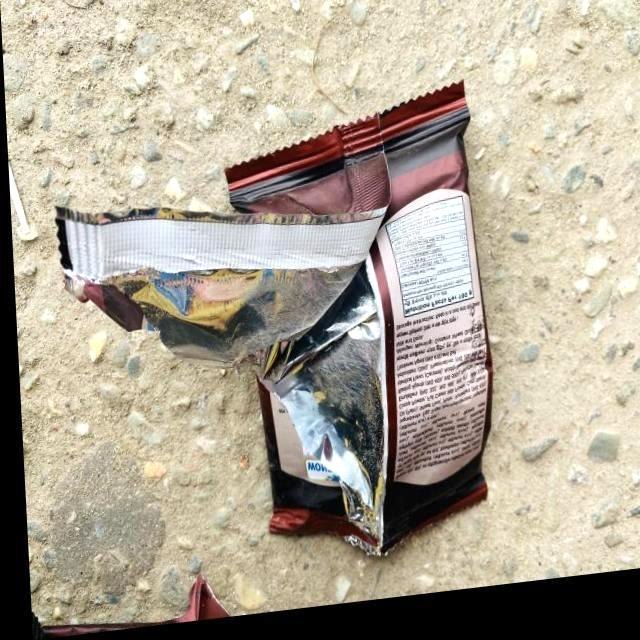packet: (241, 75, 492, 586), (40, 194, 251, 358)
